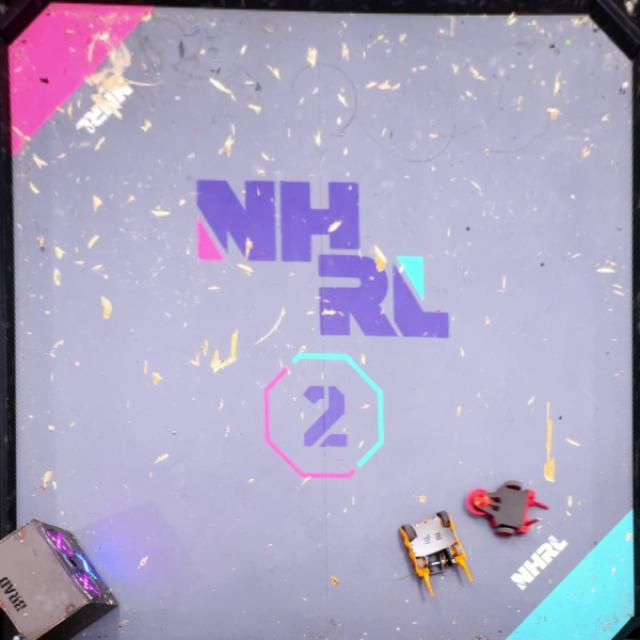housebot: (0, 519, 120, 640)
robot: (399, 510, 474, 595), (465, 479, 548, 537)
